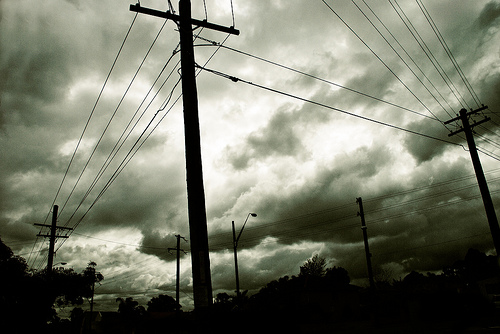pole: (126, 4, 264, 327), (432, 96, 499, 265), (34, 200, 72, 291), (352, 192, 384, 300)
